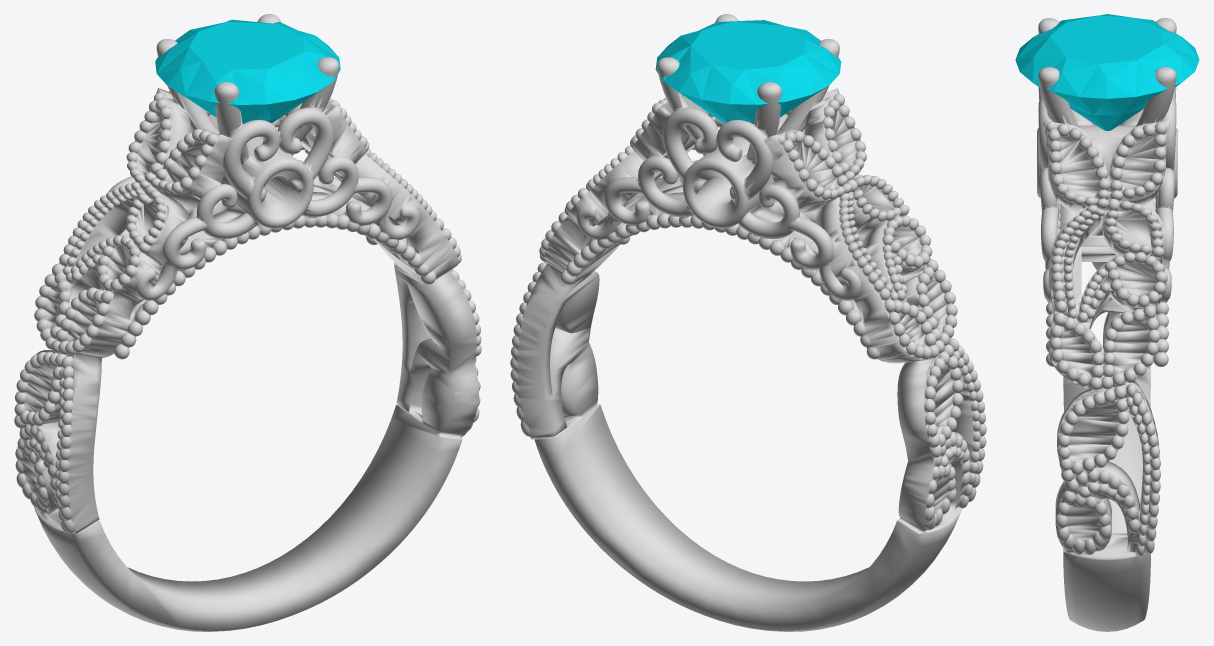
The model's file is FlowerRing.glb.
3 renders of one model, left to right at view 1: azimuth 30°, elevation 25°; view 2: azimuth 150°, elevation 25°; view 3: azimuth 270°, elevation 25°, orthographic.
Visible parts, largest first — view 1: Flower ring, MarkerGem; view 2: Flower ring, MarkerGem; view 3: Flower ring, MarkerGem.
Part boxes in pixels (x1,y1,x2,y2): Flower ring: (14,14,481,631); MarkerGem: (155,19,340,123); Flower ring: (510,14,986,631); MarkerGem: (655,20,841,123); Flower ring: (1037,18,1177,631); MarkerGem: (1015,14,1199,130).
Size of the model in its own units: 1 by 1.29 by 0.3795.
